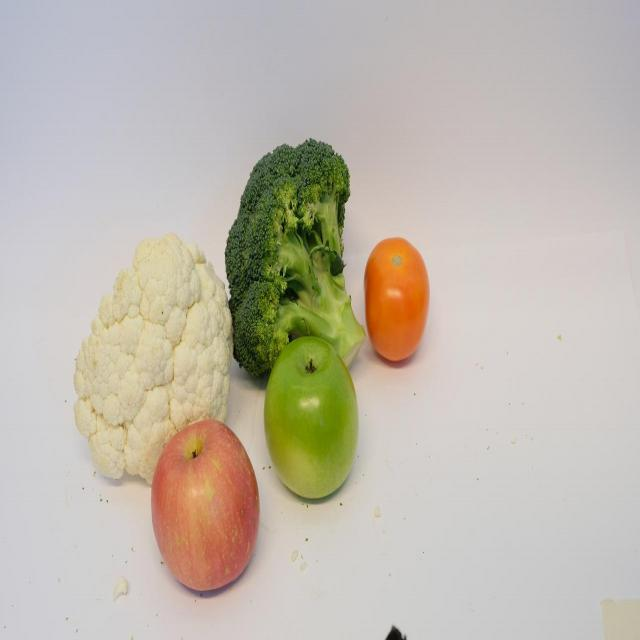apple: (155, 415, 256, 598), (266, 336, 359, 504)
broccoli: (219, 135, 365, 380)
cauliflower: (82, 240, 232, 473)
tomato: (361, 228, 432, 367)
